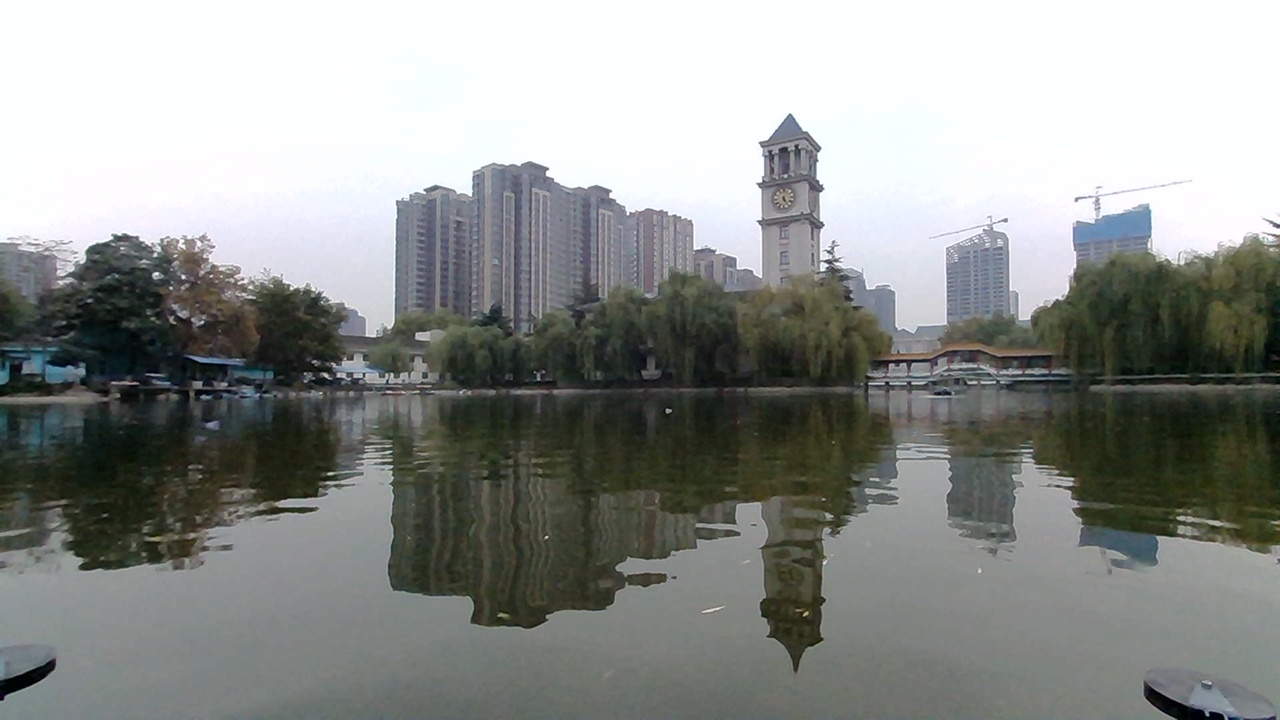bottle: (199, 411, 249, 447), (653, 391, 685, 418)
